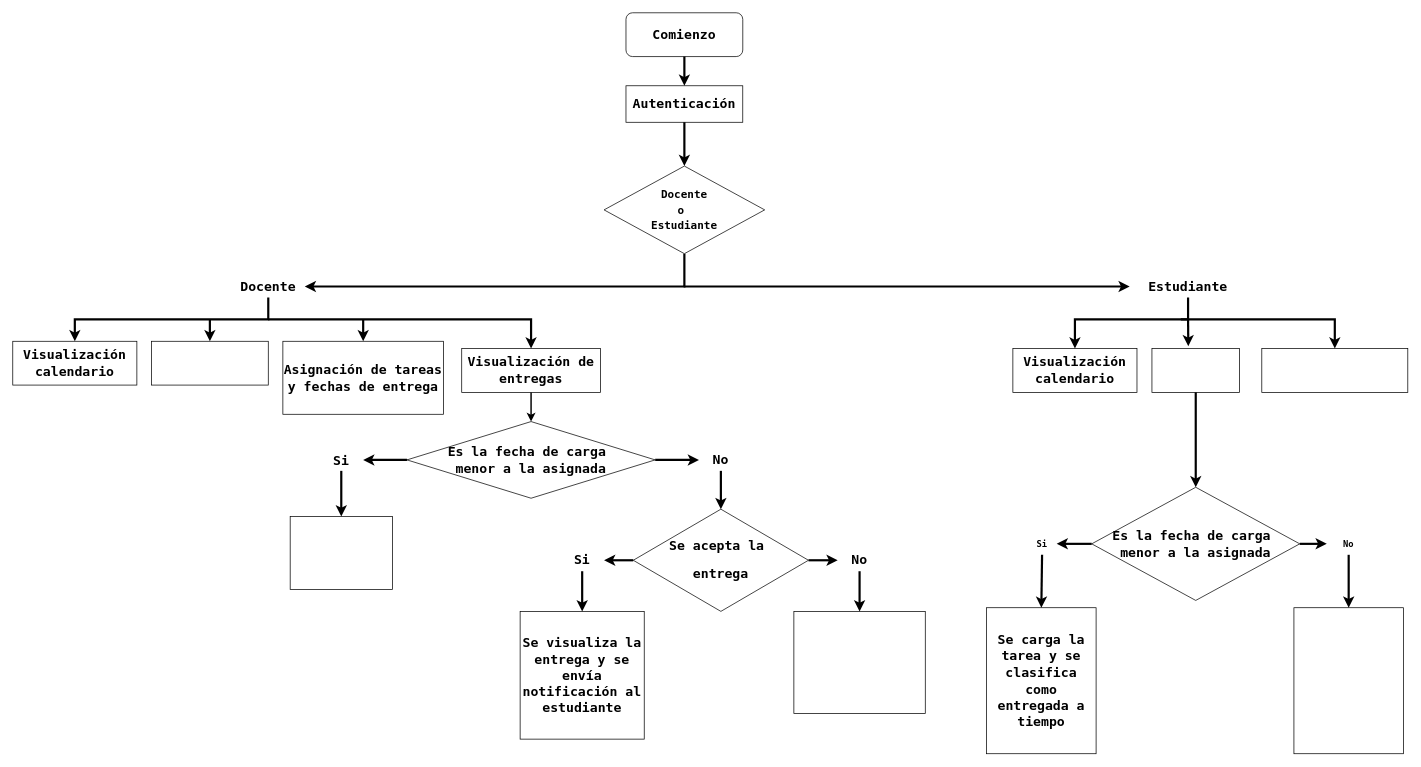
The diagram is 1421 pixels wide and 767 high, and some of its shapes have lost their labels. The shapes that lost their labels are listed below. From the top down, each one's centre as x and y in pixels, then its label:
At (209,363): "Visualización estudiantes".
At (1195,370): "Carga de tareas".
At (1334,370): "Visualización de fechas de entrga".
At (340,552): "Se visualiza la entrgea cargada".
At (859,662): "Se rechaza la entrega y se notifica al estudiante".
At (1348,680): "Se carga la tarea y se clasifica como entregada tarde".
